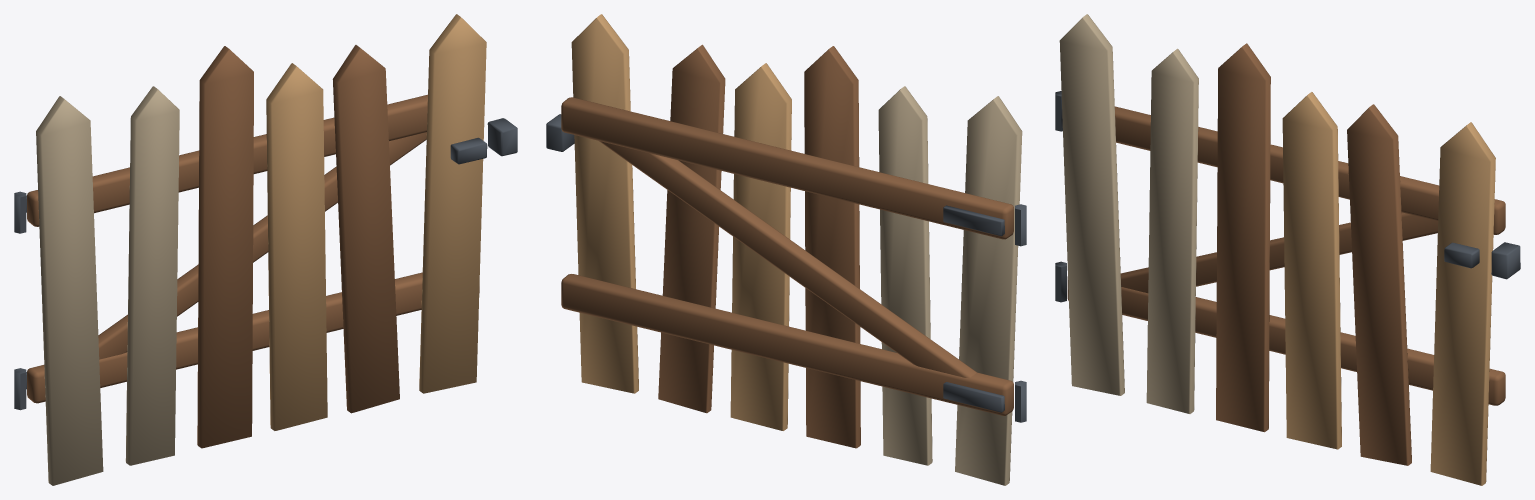
File: fence-picket-gate.glb
3 renders of one model, left to right at view 1: azimuth 30°, elevation 25°; view 2: azimuth 150°, elevation 25°; view 3: azimuth 330°, elevation 25°, orthographic. The views are drawn at different scales.
Parts seen in each view (by area): view 1: gate, frame; view 2: gate, frame; view 3: gate, frame.
Boxes of the visible parts, x1,y1,x2,y2 form: gate: (26,14,487,485); frame: (14,118,517,410); gate: (561,14,1022,485); frame: (546,114,1026,422); gate: (1059,14,1505,485); frame: (1055,91,1520,302).
Bounding box in the file's own units: 0.9795 × 0.76 × 0.106.
